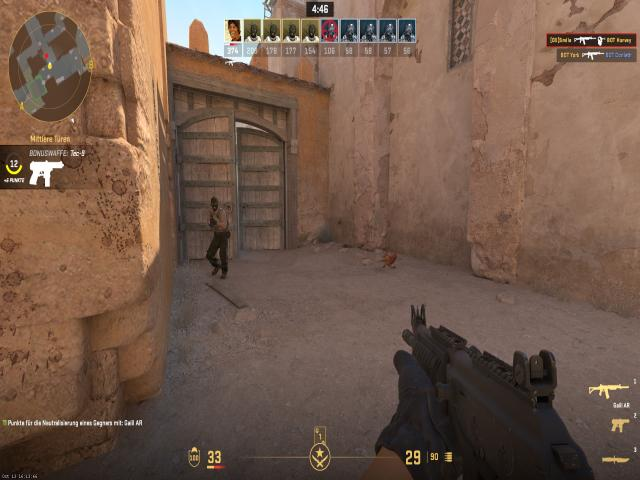T: (209, 197, 226, 275)
T-Head: (211, 198, 220, 210)
